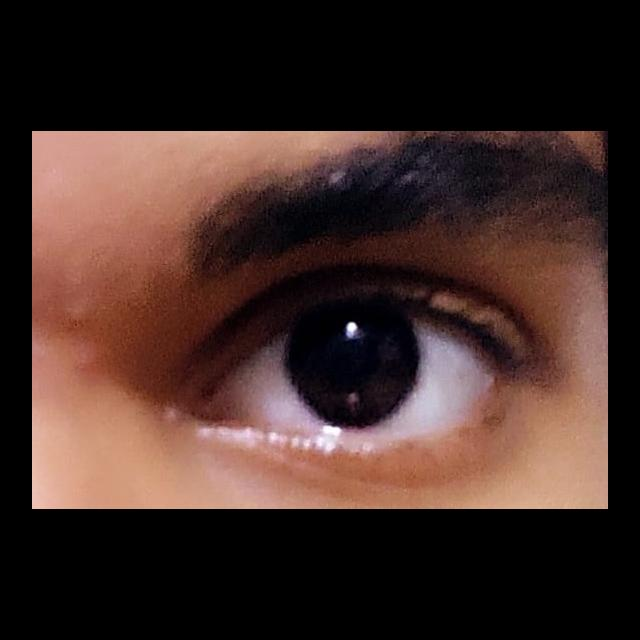eye: (230, 305, 506, 434)
iris: (282, 309, 422, 430)
